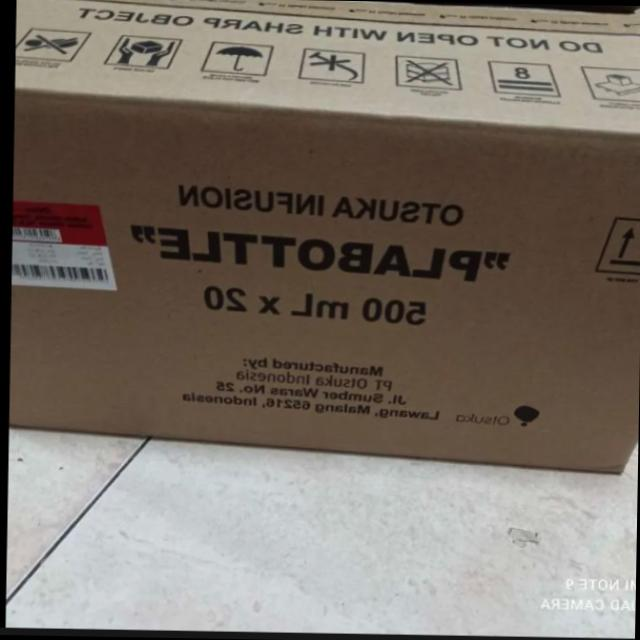Kardus: (4, 0, 640, 474), (117, 38, 175, 68), (216, 44, 264, 70), (596, 70, 640, 96)
